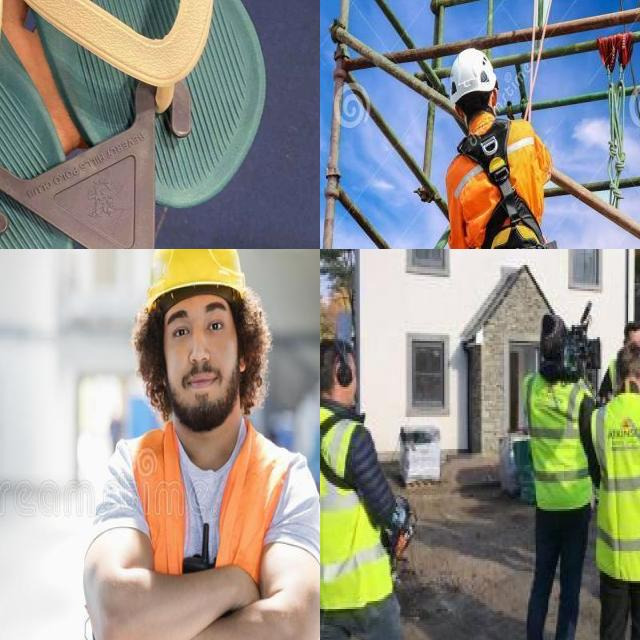Harness: (458, 119, 547, 249)
No_Glasses: (162, 304, 232, 351)
Sandals: (0, 0, 276, 249)
face_nomask: (169, 305, 243, 422), (332, 361, 367, 413)
head_helmet: (140, 249, 252, 313)
head_nohelmet: (320, 323, 361, 367), (535, 303, 565, 355), (616, 335, 640, 371), (620, 317, 640, 347)
person: (91, 249, 320, 640), (320, 333, 415, 640), (521, 317, 591, 640), (593, 343, 640, 640)
vest: (103, 414, 296, 640), (320, 407, 392, 609), (525, 371, 595, 509), (594, 389, 640, 579)
